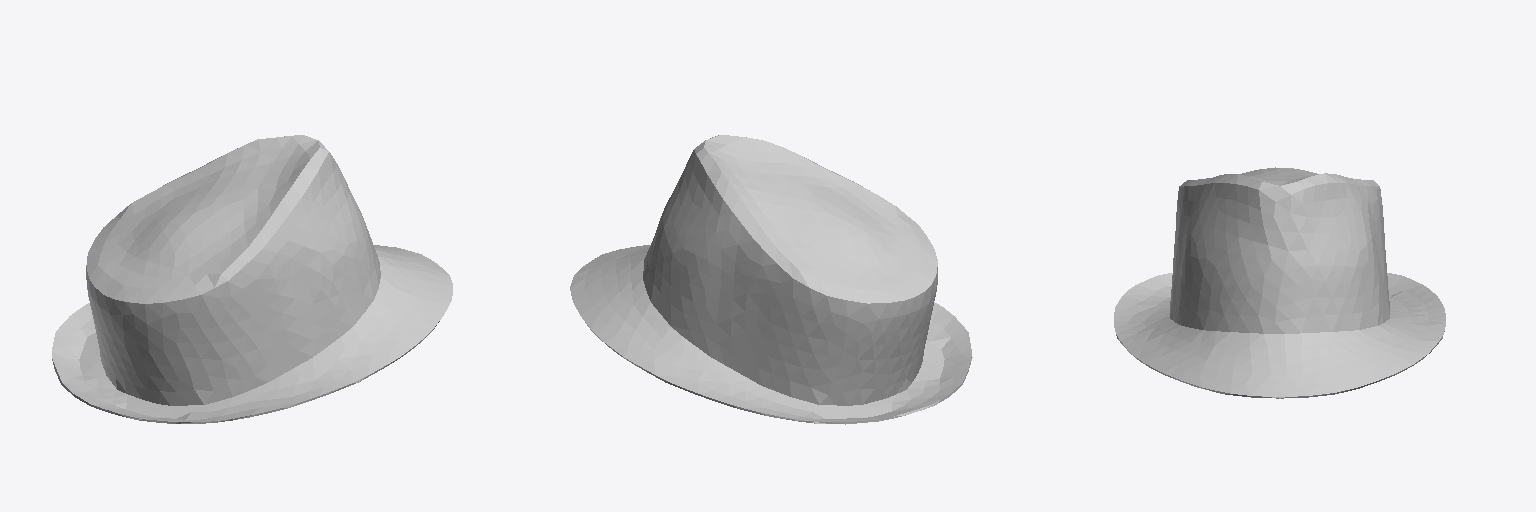
File: agenthat2.obj
3 views of the same model, side by side, from view 1: azimuth 30°, elevation 25°; view 2: azimuth 150°, elevation 25°; view 3: azimuth 270°, elevation 25° (orthographic).
Visible parts, largest first — view 1: agent_hat3252-3.0; view 2: agent_hat3252-3.0; view 3: agent_hat3252-3.0.
Boxes of the visible parts, box(x1,y1,x2,y2) form: agent_hat3252-3.0: box(52, 135, 452, 423); agent_hat3252-3.0: box(570, 135, 972, 424); agent_hat3252-3.0: box(1114, 167, 1445, 398).
Bounding box in the file's own units: 70.69 × 37.66 × 55.87.